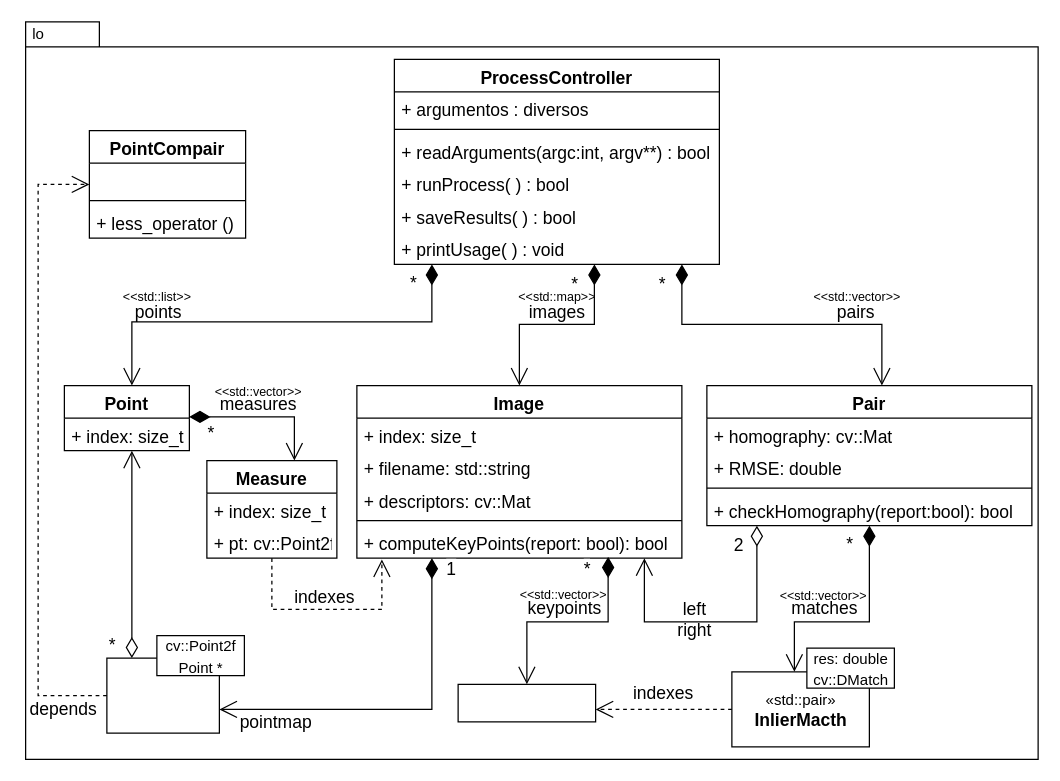
Image size: 1060x781. Some labels were removed from this diagram. The shapes that lost their labels are listed below. From the top down, each one's centre as x and y in pixels, then its label:
At (162,695): "«std::map» Pointmap".
At (526,702): "cv::KeyPoint".
